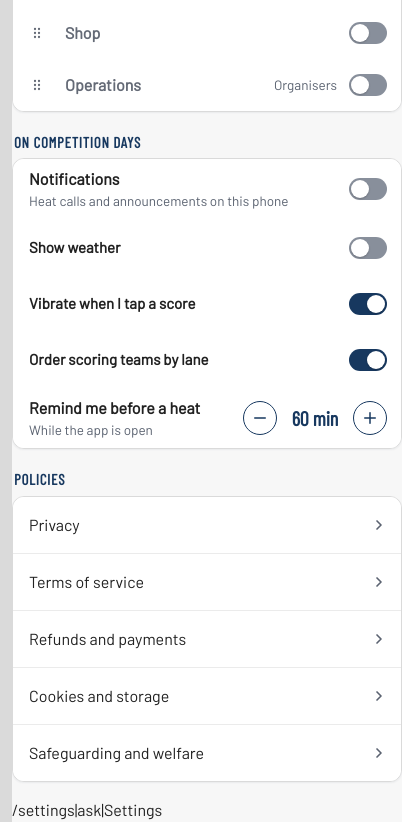
SettingsPage: heat reminder › is a round minus and plus stepper in 5 minute steps from 5 to 120, with one short note
(page scrolled)
Expected: the text "While the app is open" is shown, [29,421,153,438]
Expected: the text "60 min" is shown, [292,408,338,428]
Click the button named "5 minutes more". click: (370,418)
box: [353,401,387,435]
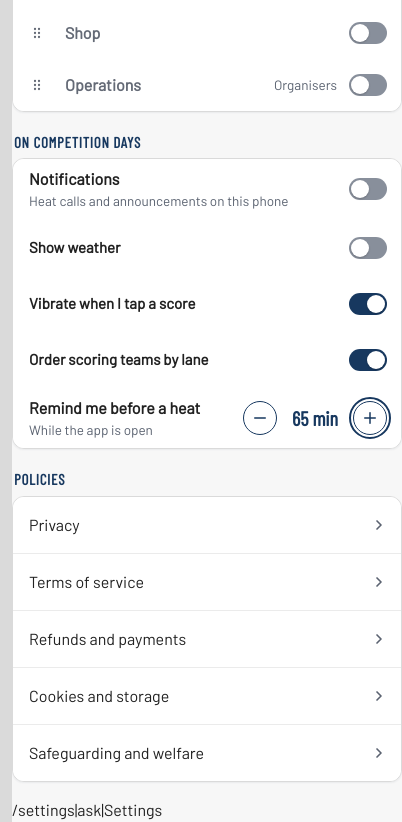
Click the button named "5 minutes less". click: (260,418)
box: [243,401,277,435]
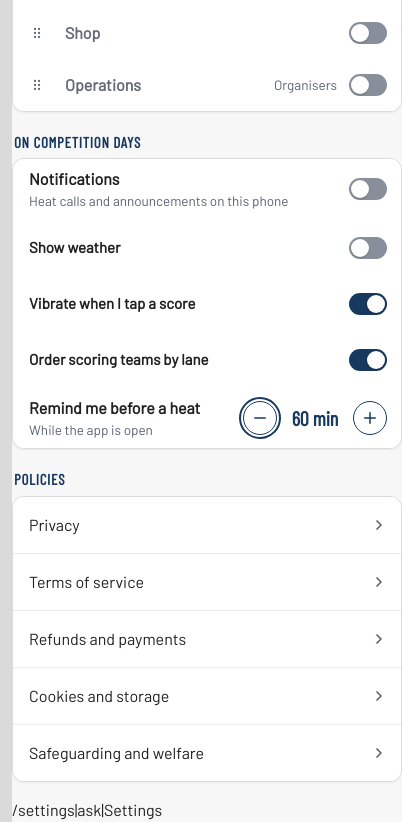
Click the button named "5 minutes less". click: (260,418)
box: [243,401,277,435]
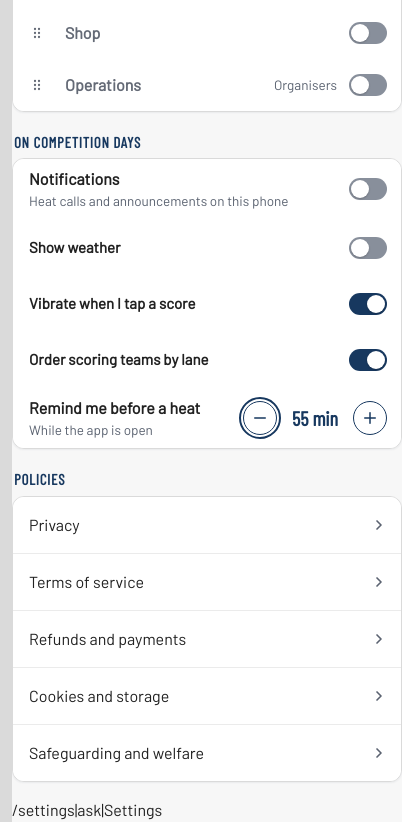
Result: the text "55 min" is shown at [292,408,338,428]
